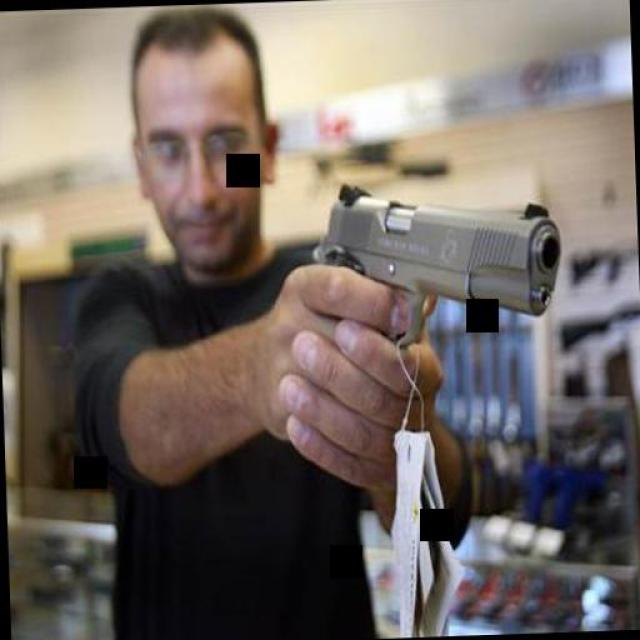gun: (300, 172, 562, 354)
